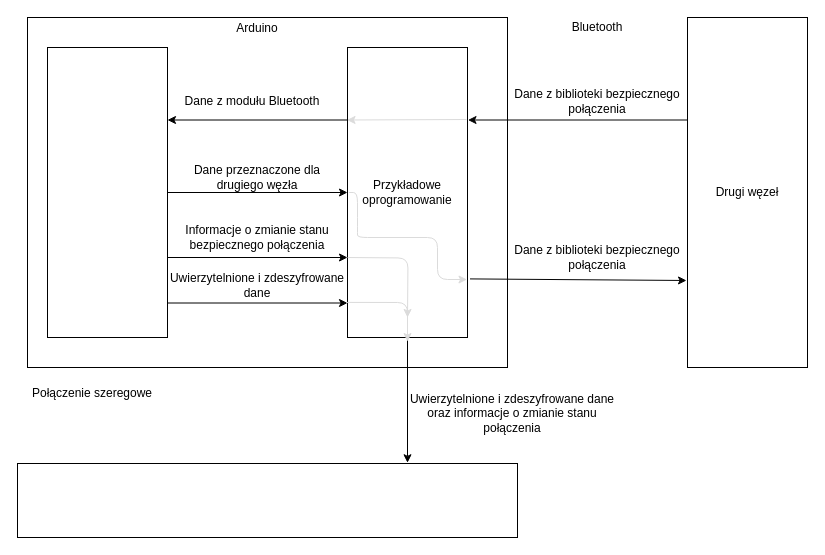
Some shapes in this 825 by 555 pixel diagram are drawn without their labels. Each missing label, with the box of its shape:
Biblioteka bezpiecznego połączenia: (46, 46, 168, 338)
Komputer: (16, 462, 518, 538)
